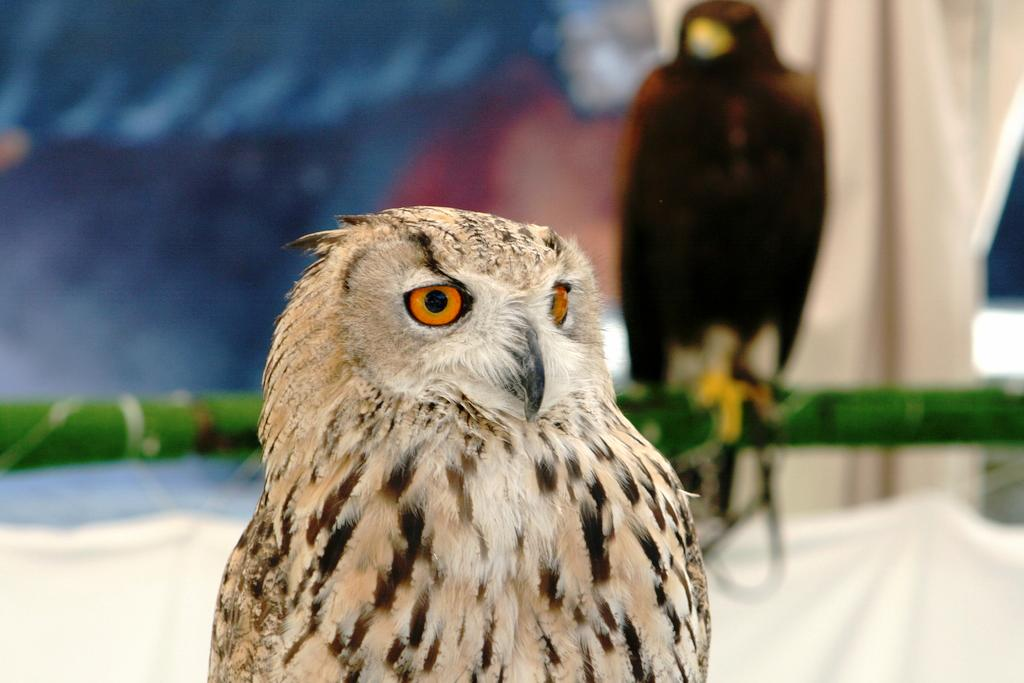Owl: (201, 206, 739, 680)
